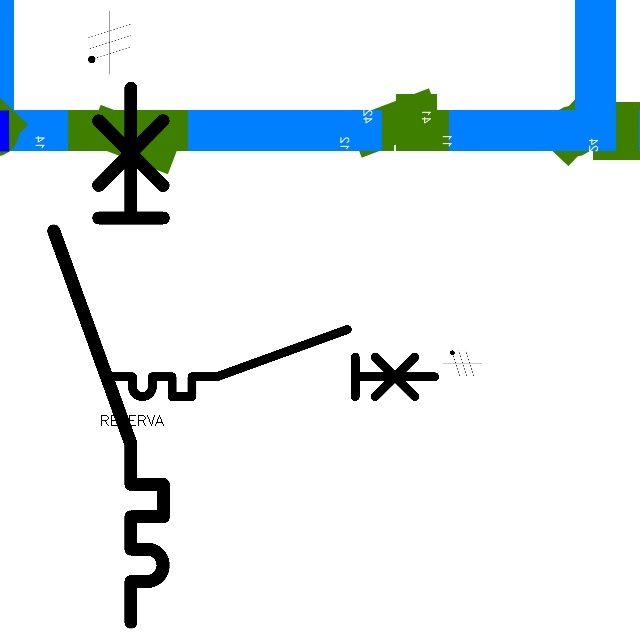interruptor_termomagnetico: (40, 74, 177, 635), (99, 321, 443, 405)
